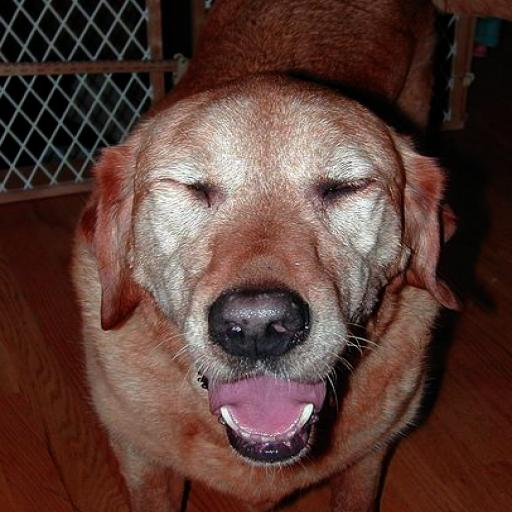dog_face: (100, 88, 446, 446)
